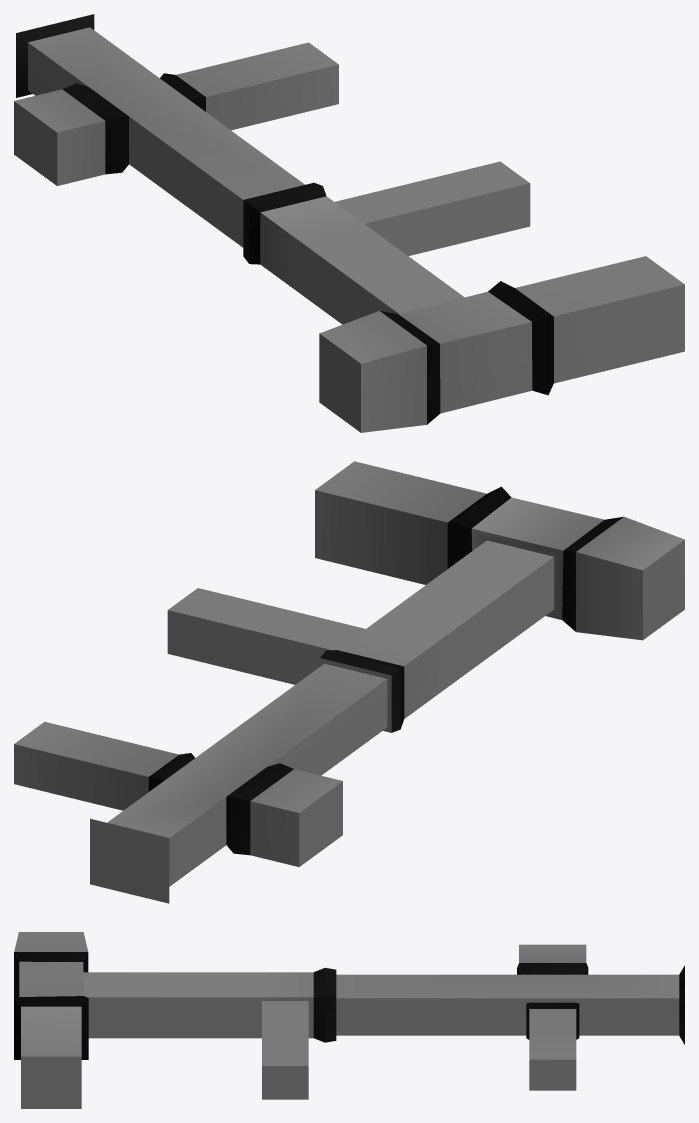
File: ConductosTecho.fbx
The picture shows the model from 3 angles, top to bottom: view 1: azimuth 30°, elevation 25°; view 2: azimuth 150°, elevation 25°; view 3: azimuth 270°, elevation 25°; orthographic projection. The views are drawn at different scales.
Visible parts, largest first — view 1: Box018; view 2: Box018; view 3: Box018.
Part boxes in pixels (x1=…): Box018: x1=14, y1=14, x2=684, y2=432; Box018: x1=14, y1=461, x2=684, y2=903; Box018: x1=14, y1=932, x2=684, y2=1108.
Bounding box in the file's own units: 120 × 28.05 × 275.
